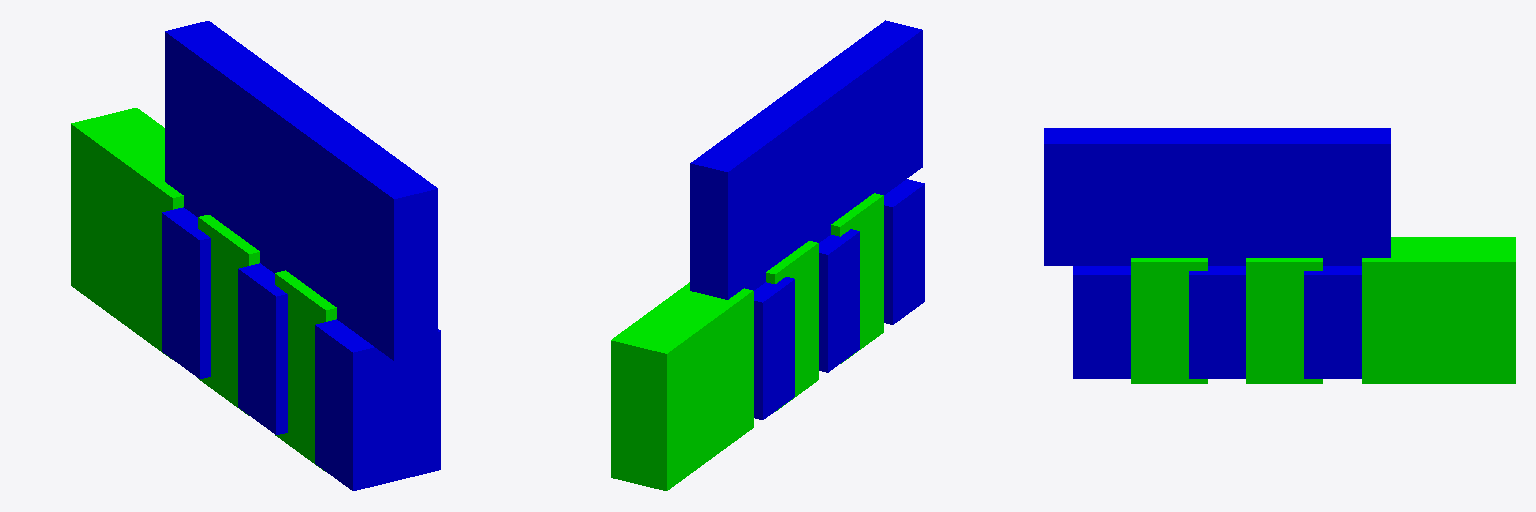
--- Facts derived from the render (not from the file) ---
Views: 3 orthographic renders of the robot side by side, from view 1: azimuth 30°, elevation 25°; view 2: azimuth 150°, elevation 25°; view 3: azimuth 270°, elevation 25°.
Robot: robot — 26 links, 25 joints (25 revolute); root link root; default pose: all joints at 0.
Visible links, largest first — view 1: [phone redacted] (×16), 000, 010, 020, 000-110, 000-100, 010-100, 020-100, 010-110, 020-110; view 2: [phone redacted] (×14), 020, 000, 010, 000-100, 010-100, 020-100, 010-110, 020-110, 000-110; view 3: [phone redacted] (×16), 000, 020, 010, 000-100, 020-100, 010-100, 020-110, 000-110, 010-110.
Boxes of the visible links, x1=… form: [phone redacted] (×16): x1=71, y1=108, x2=336, y2=471; 000: x1=318, y1=133, x2=437, y2=360; 010: x1=241, y1=77, x2=361, y2=293; 020: x1=165, y1=21, x2=284, y2=236; 000-110: x1=315, y1=395, x2=440, y2=490; 000-100: x1=315, y1=319, x2=440, y2=421; 010-100: x1=238, y1=263, x2=287, y2=365; 020-100: x1=162, y1=207, x2=210, y2=309; 010-110: x1=238, y1=338, x2=287, y2=434; 020-110: x1=162, y1=283, x2=210, y2=378; [phone redacted] (×14): x1=611, y1=193, x2=883, y2=490; 020: x1=690, y1=116, x2=792, y2=299; 000: x1=821, y1=20, x2=922, y2=204; 010: x1=756, y1=68, x2=857, y2=251; 000-100: x1=884, y1=179, x2=924, y2=265; 010-100: x1=819, y1=229, x2=859, y2=313; 020-100: x1=754, y1=277, x2=794, y2=360; 010-110: x1=819, y1=291, x2=859, y2=372; 020-110: x1=754, y1=338, x2=794, y2=419; 000-110: x1=884, y1=243, x2=924, y2=324; [phone redacted] (×16): x1=1131, y1=237, x2=1515, y2=383; 000: x1=1044, y1=128, x2=1159, y2=265; 020: x1=1275, y1=128, x2=1390, y2=265; 010: x1=1160, y1=128, x2=1274, y2=265; 000-100: x1=1073, y1=266, x2=1130, y2=326; 020-100: x1=1304, y1=266, x2=1361, y2=326; 010-100: x1=1189, y1=266, x2=1245, y2=326; 020-110: x1=1304, y1=327, x2=1361, y2=378; 000-110: x1=1073, y1=327, x2=1130, y2=378; 010-110: x1=1189, y1=327, x2=1245, y2=378.
Size in the robot's own frame: 0.4 by 2.45 by 1.35 metres.
Geometry: primitives only (box / cylinder / sphere), no mesh files.

The robot description file, URDF, robot "robot":
<robot name = "robot">
    <link name="root">
        <inertial>
            <origin xyz="0.0 0.0 1.5" rpy="0 0 0"/>
            <mass value="1" />
            <inertia ixx="100" ixy="0" ixz="0" iyy="100" iyz="0" izz="100" />
        </inertial>
        <visual>
            <origin xyz="0.0 0.0 1.5" rpy="0 0 0"/>
            <geometry>
                <box size="0 0 0.0001" />
            </geometry>
            <material name="Green">
                <color rgba="0 1.0 0.0 1.0"/>
            </material>
        </visual>
        <collision>
            <origin xyz="0.0 0.0 1.5" rpy="0 0 0"/>
            <geometry>
                <box size="0 0 0.0001" />
            </geometry>
        </collision>
    </link>
    <joint name="root_000" type="revolute">
       <parent link="root"/>
       <child  link="000"/>
       <origin rpy="0 0 0" xyz="0.0 0.0 1.5" />
     <axis xyz="1 0 0"/>
       <limit effort="0.0" lower="-3.14159" upper="3.14159" velocity="0.0"/>
    </joint>
    <link name="000">
        <inertial>
            <origin xyz="0.0 0.3 0.0" rpy="0 0 0"/>
            <mass value="1" />
            <inertia ixx="100" ixy="0" ixz="0" iyy="100" iyz="0" izz="100" />
        </inertial>
        <visual>
            <origin xyz="0.0 0.3 0.0" rpy="0 0 0"/>
            <geometry>
                <box size="0.2 0.6 0.7" />
            </geometry>
            <material name="Blue">
                <color rgba="0 0.0 1.0 1.0"/>
            </material>
        </visual>
        <collision>
            <origin xyz="0.0 0.3 0.0" rpy="0 0 0"/>
            <geometry>
                <box size="0.2 0.6 0.7" />
            </geometry>
        </collision>
    </link>
    <joint name="000_010" type="revolute">
       <parent link="000"/>
       <child  link="010"/>
       <origin rpy="0 0 0" xyz="0.0 0.6 -0.0" />
     <axis xyz="0 1 0"/>
       <limit effort="0.0" lower="-3.14159" upper="3.14159" velocity="0.0"/>
    </joint>
    <link name="010">
        <inertial>
            <origin xyz="0.0 0.3 -0.0" rpy="0 0 0"/>
            <mass value="1" />
            <inertia ixx="100" ixy="0" ixz="0" iyy="100" iyz="0" izz="100" />
        </inertial>
        <visual>
            <origin xyz="0.0 0.3 -0.0" rpy="0 0 0"/>
            <geometry>
                <box size="0.2 0.6 0.7" />
            </geometry>
            <material name="Blue">
                <color rgba="0 0.0 1.0 1.0"/>
            </material>
        </visual>
        <collision>
            <origin xyz="0.0 0.3 -0.0" rpy="0 0 0"/>
            <geometry>
                <box size="0.2 0.6 0.7" />
            </geometry>
        </collision>
    </link>
    <joint name="010_020" type="revolute">
       <parent link="010"/>
       <child  link="020"/>
       <origin rpy="0 0 0" xyz="0.0 0.6 -0.0" />
     <axis xyz="0 1 0"/>
       <limit effort="0.0" lower="-3.14159" upper="3.14159" velocity="0.0"/>
    </joint>
    <link name="020">
        <inertial>
            <origin xyz="0.0 0.3 -0.0" rpy="0 0 0"/>
            <mass value="1" />
            <inertia ixx="100" ixy="0" ixz="0" iyy="100" iyz="0" izz="100" />
        </inertial>
        <visual>
            <origin xyz="0.0 0.3 -0.0" rpy="0 0 0"/>
            <geometry>
                <box size="0.2 0.6 0.7" />
            </geometry>
            <material name="Blue">
                <color rgba="0 0.0 1.0 1.0"/>
            </material>
        </visual>
        <collision>
            <origin xyz="0.0 0.3 -0.0" rpy="0 0 0"/>
            <geometry>
                <box size="0.2 0.6 0.7" />
            </geometry>
        </collision>
    </link>
    <joint name="020_020-100" type="revolute">
       <parent link="020"/>
       <child  link="020-100"/>
       <origin rpy="0 0 0" xyz="0.0 0.3 -0.35" />
     <axis xyz="0 0 1"/>
       <limit effort="0.0" lower="-3.14159" upper="3.14159" velocity="0.0"/>
    </joint>
    <link name="020-100">
        <inertial>
            <origin xyz="0.0 0.0 -0.15" rpy="0 0 0"/>
            <mass value="1" />
            <inertia ixx="100" ixy="0" ixz="0" iyy="100" iyz="0" izz="100" />
        </inertial>
        <visual>
            <origin xyz="0.0 0.0 -0.15" rpy="0 0 0"/>
            <geometry>
                <box size="0.4 0.3 0.3" />
            </geometry>
            <material name="Blue">
                <color rgba="0 0.0 1.0 1.0"/>
            </material>
        </visual>
        <collision>
            <origin xyz="0.0 0.0 -0.15" rpy="0 0 0"/>
            <geometry>
                <box size="0.4 0.3 0.3" />
            </geometry>
        </collision>
    </link>
    <joint name="020-100_020-110" type="revolute">
       <parent link="020-100"/>
       <child  link="020-110"/>
       <origin rpy="0 0 0" xyz="0.0 0.0 -0.3" />
     <axis xyz="0 0 1"/>
       <limit effort="0.0" lower="-3.14159" upper="3.14159" velocity="0.0"/>
    </joint>
    <link name="020-110">
        <inertial>
            <origin xyz="0.0 0.0 -0.15" rpy="0 0 0"/>
            <mass value="1" />
            <inertia ixx="100" ixy="0" ixz="0" iyy="100" iyz="0" izz="100" />
        </inertial>
        <visual>
            <origin xyz="0.0 0.0 -0.15" rpy="0 0 0"/>
            <geometry>
                <box size="0.4 0.3 0.3" />
            </geometry>
            <material name="Blue">
                <color rgba="0 0.0 1.0 1.0"/>
            </material>
        </visual>
        <collision>
            <origin xyz="0.0 0.0 -0.15" rpy="0 0 0"/>
            <geometry>
                <box size="0.4 0.3 0.3" />
            </geometry>
        </collision>
    </link>
    <joint name="020-110_020-110-200" type="revolute">
       <parent link="020-110"/>
       <child  link="020-110-200"/>
       <origin rpy="0 0 0" xyz="0.0 0.15 -0.15" />
     <axis xyz="0 1 0"/>
       <limit effort="0.0" lower="-3.14159" upper="3.14159" velocity="0.0"/>
    </joint>
    <link name="020-110-200">
        <inertial>
            <origin xyz="0.0 0.1 -0.0" rpy="0 0 0"/>
            <mass value="1" />
            <inertia ixx="100" ixy="0" ixz="0" iyy="100" iyz="0" izz="100" />
        </inertial>
        <visual>
            <origin xyz="0.0 0.1 -0.0" rpy="0 0 0"/>
            <geometry>
                <box size="0.3 0.2 0.4" />
            </geometry>
            <material name="Green">
                <color rgba="0 1.0 0.0 1.0"/>
            </material>
        </visual>
        <collision>
            <origin xyz="0.0 0.1 -0.0" rpy="0 0 0"/>
            <geometry>
                <box size="0.3 0.2 0.4" />
            </geometry>
        </collision>
    </link>
    <joint name="020-110-200_020-110-210" type="revolute">
       <parent link="020-110-200"/>
       <child  link="020-110-210"/>
       <origin rpy="0 0 0" xyz="0.0 0.2 -0.0" />
     <axis xyz="0 1 0"/>
       <limit effort="0.0" lower="-3.14159" upper="3.14159" velocity="0.0"/>
    </joint>
    <link name="020-110-210">
        <inertial>
            <origin xyz="0.0 0.1 -0.0" rpy="0 0 0"/>
            <mass value="1" />
            <inertia ixx="100" ixy="0" ixz="0" iyy="100" iyz="0" izz="100" />
        </inertial>
        <visual>
            <origin xyz="0.0 0.1 -0.0" rpy="0 0 0"/>
            <geometry>
                <box size="0.3 0.2 0.4" />
            </geometry>
            <material name="Green">
                <color rgba="0 1.0 0.0 1.0"/>
            </material>
        </visual>
        <collision>
            <origin xyz="0.0 0.1 -0.0" rpy="0 0 0"/>
            <geometry>
                <box size="0.3 0.2 0.4" />
            </geometry>
        </collision>
    </link>
    <joint name="020-110-210_020-110-220" type="revolute">
       <parent link="020-110-210"/>
       <child  link="020-110-220"/>
       <origin rpy="0 0 0" xyz="0.0 0.2 -0.0" />
     <axis xyz="0 1 0"/>
       <limit effort="0.0" lower="-3.14159" upper="3.14159" velocity="0.0"/>
    </joint>
    <link name="020-110-220">
        <inertial>
            <origin xyz="0.0 0.1 -0.0" rpy="0 0 0"/>
            <mass value="1" />
            <inertia ixx="100" ixy="0" ixz="0" iyy="100" iyz="0" izz="100" />
        </inertial>
        <visual>
            <origin xyz="0.0 0.1 -0.0" rpy="0 0 0"/>
            <geometry>
                <box size="0.3 0.2 0.4" />
            </geometry>
            <material name="Green">
                <color rgba="0 1.0 0.0 1.0"/>
            </material>
        </visual>
        <collision>
            <origin xyz="0.0 0.1 -0.0" rpy="0 0 0"/>
            <geometry>
                <box size="0.3 0.2 0.4" />
            </geometry>
        </collision>
    </link>
    <joint name="020-110-220_020-110-230" type="revolute">
       <parent link="020-110-220"/>
       <child  link="020-110-230"/>
       <origin rpy="0 0 0" xyz="0.0 0.2 -0.0" />
     <axis xyz="0 1 0"/>
       <limit effort="0.0" lower="-3.14159" upper="3.14159" velocity="0.0"/>
    </joint>
    <link name="020-110-230">
        <inertial>
            <origin xyz="0.0 0.1 -0.0" rpy="0 0 0"/>
            <mass value="1" />
            <inertia ixx="100" ixy="0" ixz="0" iyy="100" iyz="0" izz="100" />
        </inertial>
        <visual>
            <origin xyz="0.0 0.1 -0.0" rpy="0 0 0"/>
            <geometry>
                <box size="0.3 0.2 0.4" />
            </geometry>
            <material name="Green">
                <color rgba="0 1.0 0.0 1.0"/>
            </material>
        </visual>
        <collision>
            <origin xyz="0.0 0.1 -0.0" rpy="0 0 0"/>
            <geometry>
                <box size="0.3 0.2 0.4" />
            </geometry>
        </collision>
    </link>
    <joint name="020-100_020-100-200" type="revolute">
       <parent link="020-100"/>
       <child  link="020-100-200"/>
       <origin rpy="0 0 0" xyz="0.0 0.15 -0.15" />
     <axis xyz="0 1 0"/>
       <limit effort="0.0" lower="-3.14159" upper="3.14159" velocity="0.0"/>
    </joint>
    <link name="020-100-200">
        <inertial>
            <origin xyz="0.0 0.1 -0.0" rpy="0 0 0"/>
            <mass value="1" />
            <inertia ixx="100" ixy="0" ixz="0" iyy="100" iyz="0" izz="100" />
        </inertial>
        <visual>
            <origin xyz="0.0 0.1 -0.0" rpy="0 0 0"/>
            <geometry>
                <box size="0.3 0.2 0.4" />
            </geometry>
            <material name="Green">
                <color rgba="0 1.0 0.0 1.0"/>
            </material>
        </visual>
        <collision>
            <origin xyz="0.0 0.1 -0.0" rpy="0 0 0"/>
            <geometry>
                <box size="0.3 0.2 0.4" />
            </geometry>
        </collision>
    </link>
    <joint name="020-100-200_020-100-210" type="revolute">
       <parent link="020-100-200"/>
       <child  link="020-100-210"/>
       <origin rpy="0 0 0" xyz="0.0 0.2 -0.0" />
     <axis xyz="0 1 0"/>
       <limit effort="0.0" lower="-3.14159" upper="3.14159" velocity="0.0"/>
    </joint>
    <link name="020-100-210">
        <inertial>
            <origin xyz="0.0 0.1 -0.0" rpy="0 0 0"/>
            <mass value="1" />
            <inertia ixx="100" ixy="0" ixz="0" iyy="100" iyz="0" izz="100" />
        </inertial>
        <visual>
            <origin xyz="0.0 0.1 -0.0" rpy="0 0 0"/>
            <geometry>
                <box size="0.3 0.2 0.4" />
            </geometry>
            <material name="Green">
                <color rgba="0 1.0 0.0 1.0"/>
            </material>
        </visual>
        <collision>
            <origin xyz="0.0 0.1 -0.0" rpy="0 0 0"/>
            <geometry>
                <box size="0.3 0.2 0.4" />
            </geometry>
        </collision>
    </link>
    <joint name="020-100-210_020-100-220" type="revolute">
       <parent link="020-100-210"/>
       <child  link="020-100-220"/>
       <origin rpy="0 0 0" xyz="0.0 0.2 -0.0" />
     <axis xyz="0 1 0"/>
       <limit effort="0.0" lower="-3.14159" upper="3.14159" velocity="0.0"/>
    </joint>
    <link name="020-100-220">
        <inertial>
            <origin xyz="0.0 0.1 -0.0" rpy="0 0 0"/>
            <mass value="1" />
            <inertia ixx="100" ixy="0" ixz="0" iyy="100" iyz="0" izz="100" />
        </inertial>
        <visual>
            <origin xyz="0.0 0.1 -0.0" rpy="0 0 0"/>
            <geometry>
                <box size="0.3 0.2 0.4" />
            </geometry>
            <material name="Green">
                <color rgba="0 1.0 0.0 1.0"/>
            </material>
        </visual>
        <collision>
            <origin xyz="0.0 0.1 -0.0" rpy="0 0 0"/>
            <geometry>
                <box size="0.3 0.2 0.4" />
            </geometry>
        </collision>
    </link>
    <joint name="020-100-220_020-100-230" type="revolute">
       <parent link="020-100-220"/>
       <child  link="020-100-230"/>
       <origin rpy="0 0 0" xyz="0.0 0.2 -0.0" />
     <axis xyz="0 1 0"/>
       <limit effort="0.0" lower="-3.14159" upper="3.14159" velocity="0.0"/>
    </joint>
    <link name="020-100-230">
        <inertial>
            <origin xyz="0.0 0.1 -0.0" rpy="0 0 0"/>
            <mass value="1" />
            <inertia ixx="100" ixy="0" ixz="0" iyy="100" iyz="0" izz="100" />
        </inertial>
        <visual>
            <origin xyz="0.0 0.1 -0.0" rpy="0 0 0"/>
            <geometry>
                <box size="0.3 0.2 0.4" />
            </geometry>
            <material name="Green">
                <color rgba="0 1.0 0.0 1.0"/>
            </material>
        </visual>
        <collision>
            <origin xyz="0.0 0.1 -0.0" rpy="0 0 0"/>
            <geometry>
                <box size="0.3 0.2 0.4" />
            </geometry>
        </collision>
    </link>
    <joint name="010_010-100" type="revolute">
       <parent link="010"/>
       <child  link="010-100"/>
       <origin rpy="0 0 0" xyz="0.0 0.3 -0.35" />
     <axis xyz="0 0 1"/>
       <limit effort="0.0" lower="-3.14159" upper="3.14159" velocity="0.0"/>
    </joint>
    <link name="010-100">
        <inertial>
            <origin xyz="0.0 0.0 -0.15" rpy="0 0 0"/>
            <mass value="1" />
            <inertia ixx="100" ixy="0" ixz="0" iyy="100" iyz="0" izz="100" />
        </inertial>
        <visual>
            <origin xyz="0.0 0.0 -0.15" rpy="0 0 0"/>
            <geometry>
                <box size="0.4 0.3 0.3" />
            </geometry>
            <material name="Blue">
                <color rgba="0 0.0 1.0 1.0"/>
            </material>
        </visual>
        <collision>
            <origin xyz="0.0 0.0 -0.15" rpy="0 0 0"/>
            <geometry>
                <box size="0.4 0.3 0.3" />
            </geometry>
        </collision>
    </link>
    <joint name="010-100_010-110" type="revolute">
       <parent link="010-100"/>
       <child  link="010-110"/>
       <origin rpy="0 0 0" xyz="0.0 0.0 -0.3" />
     <axis xyz="0 0 1"/>
       <limit effort="0.0" lower="-3.14159" upper="3.14159" velocity="0.0"/>
    </joint>
    <link name="010-110">
        <inertial>
            <origin xyz="0.0 0.0 -0.15" rpy="0 0 0"/>
            <mass value="1" />
            <inertia ixx="100" ixy="0" ixz="0" iyy="100" iyz="0" izz="100" />
        </inertial>
        <visual>
            <origin xyz="0.0 0.0 -0.15" rpy="0 0 0"/>
            <geometry>
                <box size="0.4 0.3 0.3" />
            </geometry>
            <material name="Blue">
                <color rgba="0 0.0 1.0 1.0"/>
            </material>
        </visual>
        <collision>
            <origin xyz="0.0 0.0 -0.15" rpy="0 0 0"/>
            <geometry>
                <box size="0.4 0.3 0.3" />
            </geometry>
        </collision>
    </link>
    <joint name="010-110_010-110-200" type="revolute">
       <parent link="010-110"/>
       <child  link="010-110-200"/>
       <origin rpy="0 0 0" xyz="0.0 0.15 -0.15" />
     <axis xyz="0 1 0"/>
       <limit effort="0.0" lower="-3.14159" upper="3.14159" velocity="0.0"/>
    </joint>
    <link name="010-110-200">
        <inertial>
            <origin xyz="0.0 0.1 -0.0" rpy="0 0 0"/>
            <mass value="1" />
            <inertia ixx="100" ixy="0" ixz="0" iyy="100" iyz="0" izz="100" />
        </inertial>
        <visual>
            <origin xyz="0.0 0.1 -0.0" rpy="0 0 0"/>
            <geometry>
                <box size="0.3 0.2 0.4" />
            </geometry>
            <material name="Green">
                <color rgba="0 1.0 0.0 1.0"/>
            </material>
        </visual>
        <collision>
            <origin xyz="0.0 0.1 -0.0" rpy="0 0 0"/>
            <geometry>
                <box size="0.3 0.2 0.4" />
            </geometry>
        </collision>
    </link>
    <joint name="010-110-200_010-110-210" type="revolute">
       <parent link="010-110-200"/>
       <child  link="010-110-210"/>
       <origin rpy="0 0 0" xyz="0.0 0.2 -0.0" />
     <axis xyz="0 1 0"/>
       <limit effort="0.0" lower="-3.14159" upper="3.14159" velocity="0.0"/>
    </joint>
    <link name="010-110-210">
        <inertial>
            <origin xyz="0.0 0.1 -0.0" rpy="0 0 0"/>
            <mass value="1" />
            <inertia ixx="100" ixy="0" ixz="0" iyy="100" iyz="0" izz="100" />
        </inertial>
        <visual>
            <origin xyz="0.0 0.1 -0.0" rpy="0 0 0"/>
            <geometry>
                <box size="0.3 0.2 0.4" />
            </geometry>
            <material name="Green">
                <color rgba="0 1.0 0.0 1.0"/>
            </material>
        </visual>
        <collision>
            <origin xyz="0.0 0.1 -0.0" rpy="0 0 0"/>
            <geometry>
                <box size="0.3 0.2 0.4" />
            </geometry>
        </collision>
    </link>
    <joint name="010-100_010-100-200" type="revolute">
       <parent link="010-100"/>
       <child  link="010-100-200"/>
       <origin rpy="0 0 0" xyz="0.0 0.15 -0.15" />
     <axis xyz="0 1 0"/>
       <limit effort="0.0" lower="-3.14159" upper="3.14159" velocity="0.0"/>
    </joint>
    <link name="010-100-200">
        <inertial>
            <origin xyz="0.0 0.1 -0.0" rpy="0 0 0"/>
            <mass value="1" />
            <inertia ixx="100" ixy="0" ixz="0" iyy="100" iyz="0" izz="100" />
        </inertial>
        <visual>
            <origin xyz="0.0 0.1 -0.0" rpy="0 0 0"/>
            <geometry>
                <box size="0.3 0.2 0.4" />
            </geometry>
            <material name="Green">
                <color rgba="0 1.0 0.0 1.0"/>
            </material>
        </visual>
        <collision>
            <origin xyz="0.0 0.1 -0.0" rpy="0 0 0"/>
            <geometry>
                <box size="0.3 0.2 0.4" />
            </geometry>
        </collision>
    </link>
    <joint name="010-100-200_010-100-210" type="revolute">
       <parent link="010-100-200"/>
       <child  link="010-100-210"/>
       <origin rpy="0 0 0" xyz="0.0 0.2 -0.0" />
     <axis xyz="0 1 0"/>
       <limit effort="0.0" lower="-3.14159" upper="3.14159" velocity="0.0"/>
    </joint>
    <link name="010-100-210">
        <inertial>
            <origin xyz="0.0 0.1 -0.0" rpy="0 0 0"/>
            <mass value="1" />
            <inertia ixx="100" ixy="0" ixz="0" iyy="100" iyz="0" izz="100" />
        </inertial>
        <visual>
            <origin xyz="0.0 0.1 -0.0" rpy="0 0 0"/>
            <geometry>
                <box size="0.3 0.2 0.4" />
            </geometry>
            <material name="Green">
                <color rgba="0 1.0 0.0 1.0"/>
            </material>
        </visual>
        <collision>
            <origin xyz="0.0 0.1 -0.0" rpy="0 0 0"/>
            <geometry>
                <box size="0.3 0.2 0.4" />
            </geometry>
        </collision>
    </link>
    <joint name="000_000-100" type="revolute">
       <parent link="000"/>
       <child  link="000-100"/>
       <origin rpy="0 0 0" xyz="0.0 0.3 -0.35" />
     <axis xyz="0 0 1"/>
       <limit effort="0.0" lower="-3.14159" upper="3.14159" velocity="0.0"/>
    </joint>
    <link name="000-100">
        <inertial>
            <origin xyz="0.0 0.0 -0.15" rpy="0 0 0"/>
            <mass value="1" />
            <inertia ixx="100" ixy="0" ixz="0" iyy="100" iyz="0" izz="100" />
        </inertial>
        <visual>
            <origin xyz="0.0 0.0 -0.15" rpy="0 0 0"/>
            <geometry>
                <box size="0.4 0.3 0.3" />
            </geometry>
            <material name="Blue">
                <color rgba="0 0.0 1.0 1.0"/>
            </material>
        </visual>
        <collision>
            <origin xyz="0.0 0.0 -0.15" rpy="0 0 0"/>
            <geometry>
                <box size="0.4 0.3 0.3" />
            </geometry>
        </collision>
    </link>
    <joint name="000-100_000-110" type="revolute">
       <parent link="000-100"/>
       <child  link="000-110"/>
       <origin rpy="0 0 0" xyz="0.0 0.0 -0.3" />
     <axis xyz="0 0 1"/>
       <limit effort="0.0" lower="-3.14159" upper="3.14159" velocity="0.0"/>
    </joint>
    <link name="000-110">
        <inertial>
            <origin xyz="0.0 0.0 -0.15" rpy="0 0 0"/>
            <mass value="1" />
            <inertia ixx="100" ixy="0" ixz="0" iyy="100" iyz="0" izz="100" />
        </inertial>
        <visual>
            <origin xyz="0.0 0.0 -0.15" rpy="0 0 0"/>
            <geometry>
                <box size="0.4 0.3 0.3" />
            </geometry>
            <material name="Blue">
                <color rgba="0 0.0 1.0 1.0"/>
            </material>
        </visual>
        <collision>
            <origin xyz="0.0 0.0 -0.15" rpy="0 0 0"/>
            <geometry>
                <box size="0.4 0.3 0.3" />
            </geometry>
        </collision>
    </link>
    <joint name="000-110_000-110-200" type="revolute">
       <parent link="000-110"/>
       <child  link="000-110-200"/>
       <origin rpy="0 0 0" xyz="0.0 0.15 -0.15" />
     <axis xyz="0 1 0"/>
       <limit effort="0.0" lower="-3.14159" upper="3.14159" velocity="0.0"/>
    </joint>
    <link name="000-110-200">
        <inertial>
            <origin xyz="0.0 0.1 -0.0" rpy="0 0 0"/>
            <mass value="1" />
            <inertia ixx="100" ixy="0" ixz="0" iyy="100" iyz="0" izz="100" />
        </inertial>
        <visual>
            <origin xyz="0.0 0.1 -0.0" rpy="0 0 0"/>
            <geometry>
                <box size="0.3 0.2 0.4" />
            </geometry>
            <material name="Green">
                <color rgba="0 1.0 0.0 1.0"/>
            </material>
        </visual>
        <collision>
            <origin xyz="0.0 0.1 -0.0" rpy="0 0 0"/>
            <geometry>
                <box size="0.3 0.2 0.4" />
            </geometry>
        </collision>
    </link>
    <joint name="000-110-200_000-110-210" type="revolute">
       <parent link="000-110-200"/>
       <child  link="000-110-210"/>
       <origin rpy="0 0 0" xyz="0.0 0.2 -0.0" />
     <axis xyz="0 1 0"/>
       <limit effort="0.0" lower="-3.14159" upper="3.14159" velocity="0.0"/>
    </joint>
    <link name="000-110-210">
        <inertial>
            <origin xyz="0.0 0.1 -0.0" rpy="0 0 0"/>
            <mass value="1" />
            <inertia ixx="100" ixy="0" ixz="0" iyy="100" iyz="0" izz="100" />
        </inertial>
        <visual>
            <origin xyz="0.0 0.1 -0.0" rpy="0 0 0"/>
            <geometry>
                <box size="0.3 0.2 0.4" />
            </geometry>
            <material name="Green">
                <color rgba="0 1.0 0.0 1.0"/>
            </material>
        </visual>
        <collision>
            <origin xyz="0.0 0.1 -0.0" rpy="0 0 0"/>
            <geometry>
                <box size="0.3 0.2 0.4" />
            </geometry>
        </collision>
    </link>
    <joint name="000-100_000-100-200" type="revolute">
       <parent link="000-100"/>
       <child  link="000-100-200"/>
       <origin rpy="0 0 0" xyz="0.0 0.15 -0.15" />
     <axis xyz="0 1 0"/>
       <limit effort="0.0" lower="-3.14159" upper="3.14159" velocity="0.0"/>
    </joint>
    <link name="000-100-200">
        <inertial>
            <origin xyz="0.0 0.1 -0.0" rpy="0 0 0"/>
            <mass value="1" />
            <inertia ixx="100" ixy="0" ixz="0" iyy="100" iyz="0" izz="100" />
        </inertial>
        <visual>
            <origin xyz="0.0 0.1 -0.0" rpy="0 0 0"/>
            <geometry>
                <box size="0.3 0.2 0.4" />
            </geometry>
            <material name="Green">
                <color rgba="0 1.0 0.0 1.0"/>
            </material>
        </visual>
        <collision>
            <origin xyz="0.0 0.1 -0.0" rpy="0 0 0"/>
            <geometry>
                <box size="0.3 0.2 0.4" />
            </geometry>
        </collision>
    </link>
    <joint name="000-100-200_000-100-210" type="revolute">
       <parent link="000-100-200"/>
       <child  link="000-100-210"/>
       <origin rpy="0 0 0" xyz="0.0 0.2 -0.0" />
     <axis xyz="0 1 0"/>
       <limit effort="0.0" lower="-3.14159" upper="3.14159" velocity="0.0"/>
    </joint>
    <link name="000-100-210">
        <inertial>
            <origin xyz="0.0 0.1 -0.0" rpy="0 0 0"/>
            <mass value="1" />
            <inertia ixx="100" ixy="0" ixz="0" iyy="100" iyz="0" izz="100" />
        </inertial>
        <visual>
            <origin xyz="0.0 0.1 -0.0" rpy="0 0 0"/>
            <geometry>
                <box size="0.3 0.2 0.4" />
            </geometry>
            <material name="Green">
                <color rgba="0 1.0 0.0 1.0"/>
            </material>
        </visual>
        <collision>
            <origin xyz="0.0 0.1 -0.0" rpy="0 0 0"/>
            <geometry>
                <box size="0.3 0.2 0.4" />
            </geometry>
        </collision>
    </link>
</robot>
